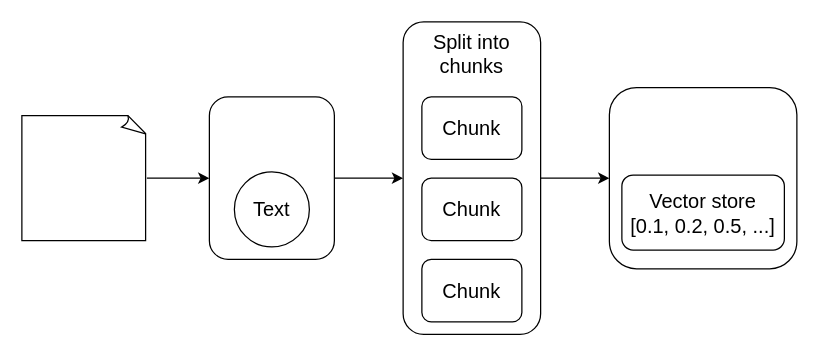
Some shapes in this 819 by 356 pixel diagram are drawn without their labels. Here are the shapes that lost their labels. From the top down, the box of each, then its label:
(21, 114, 147, 241): Document
(208, 96, 334, 259): Convert to text
(608, 86, 797, 269): Convert to numbers and store
